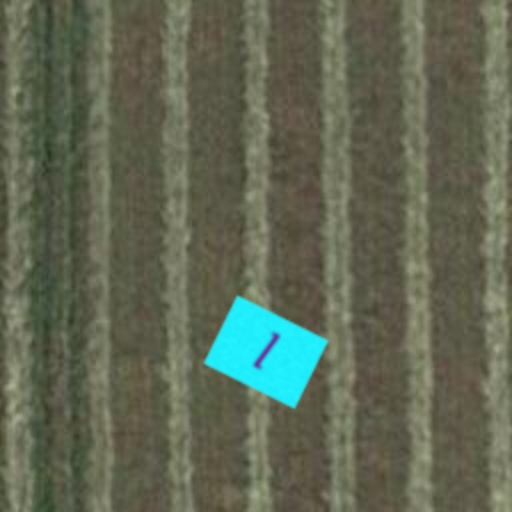rectangle: (196, 282, 336, 422)
